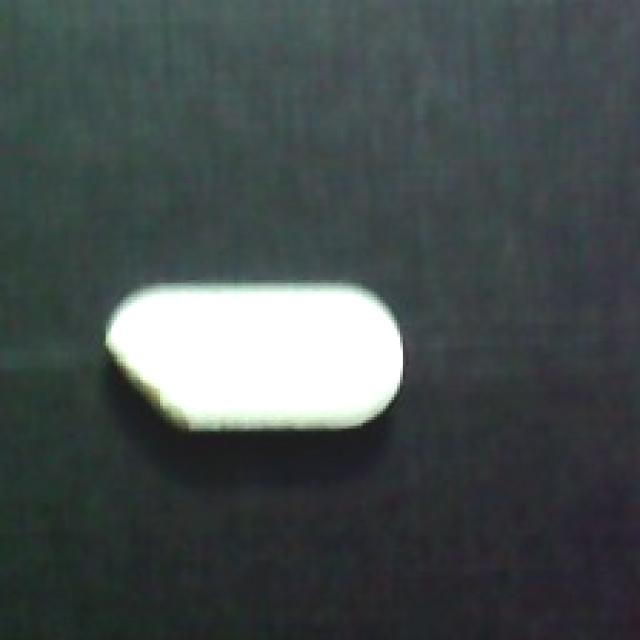defected: (100, 271, 411, 437)
